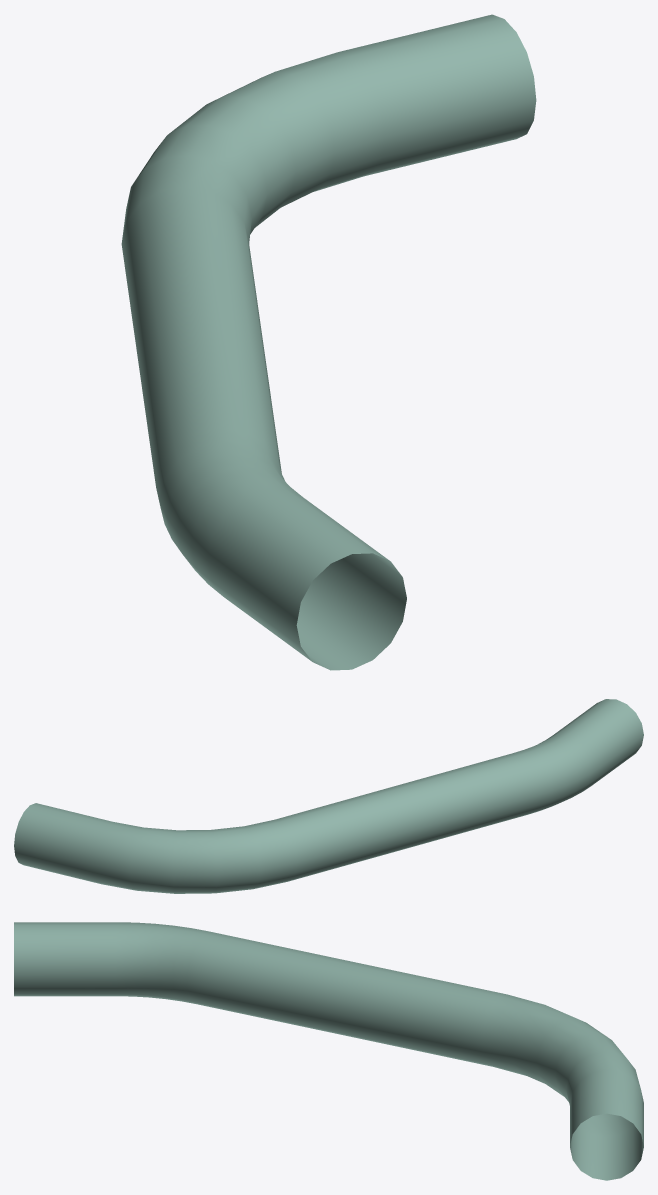
Rendered from PipeLarge_BentSpecial_09.fbx.
The picture shows the model from 3 angles, top to bottom: view 1: azimuth 30°, elevation 25°; view 2: azimuth 150°, elevation 25°; view 3: azimuth 270°, elevation 25°; orthographic projection. The views are drawn at different scales.
Visible parts, largest first — view 1: PipeLarge_BentSpecial_09.001; view 2: PipeLarge_BentSpecial_09.001; view 3: PipeLarge_BentSpecial_09.001.
Boxes of the visible parts, x1,y1,x2,y2 form: PipeLarge_BentSpecial_09.001: [121, 14, 536, 670]; PipeLarge_BentSpecial_09.001: [14, 699, 643, 893]; PipeLarge_BentSpecial_09.001: [14, 922, 643, 1180].
Bounding box in the file's own units: 1.3 × 0.2 × 1.7.
